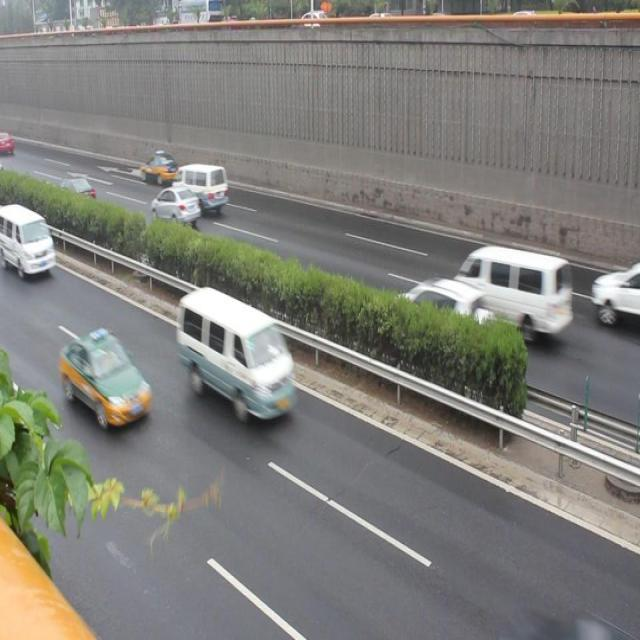car: (58, 324, 152, 432), (397, 272, 500, 361), (590, 251, 640, 327), (152, 182, 199, 230), (139, 148, 179, 186)
truck: (166, 284, 296, 432), (447, 230, 579, 346), (1, 200, 57, 291), (166, 156, 232, 211)
